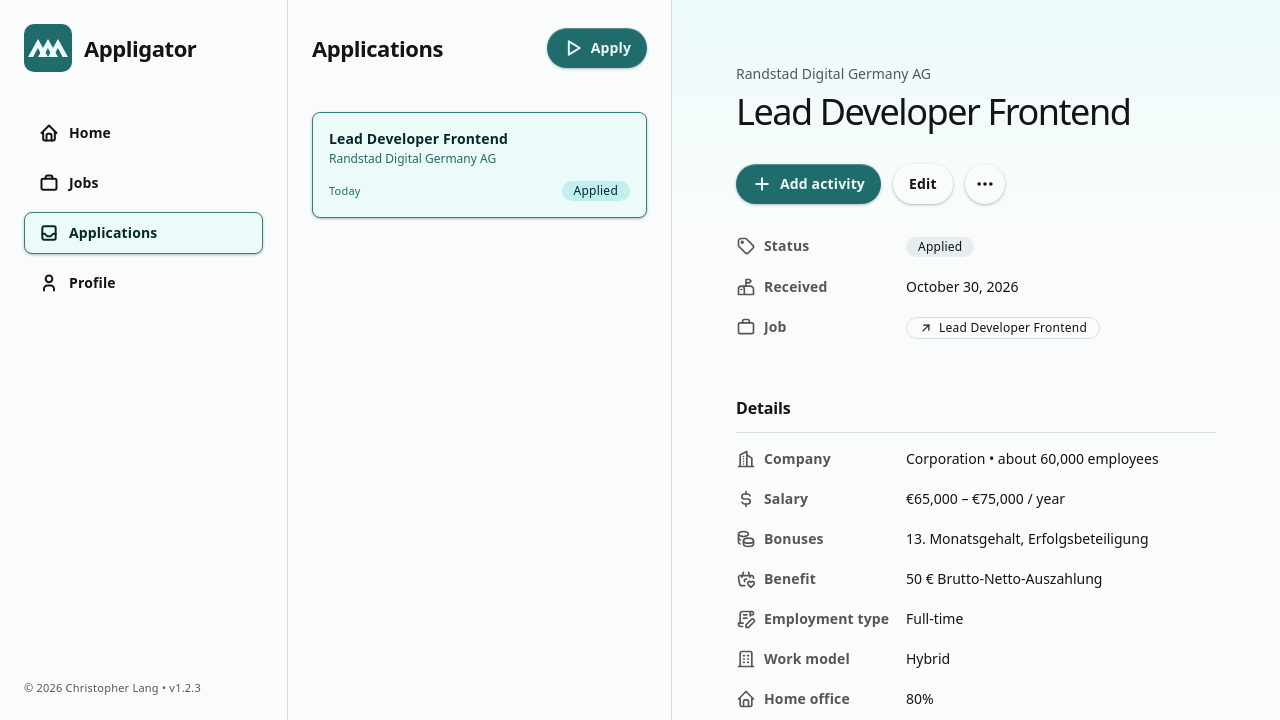
Test case: explains when there are no open jobs
Step 1. Click the button "Apply" → (597, 48), box [547,28,647,68]
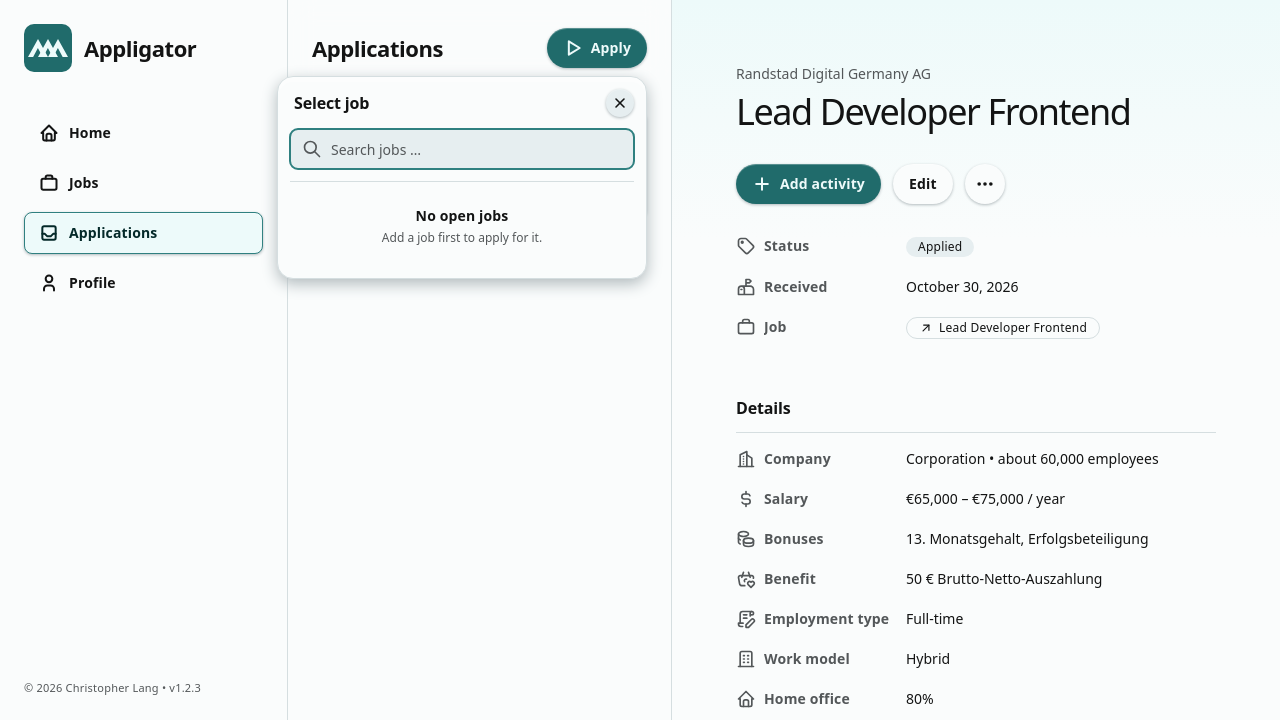
expect the text "No open jobs" is shown: met, box [416,206,508,226]
